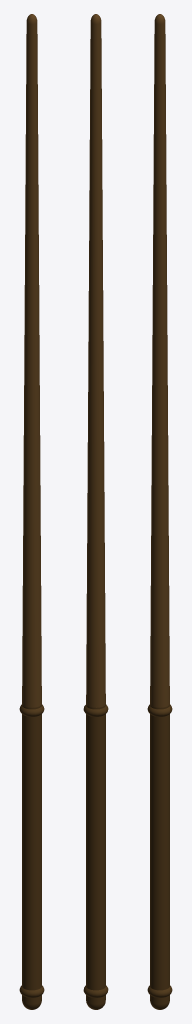
File: basic_wand.glb
3 views of the same model, side by side, from view 1: azimuth 90°, elevation 25°; view 2: azimuth 150°, elevation 25°; view 3: azimuth 270°, elevation 25° (orthographic).
Parts seen in each view (by area): view 1: pCylinder2, pCylinder1, pSphere1, pSphere2; view 2: pCylinder2, pCylinder1, pSphere2, pSphere1; view 3: pCylinder2, pCylinder1, pSphere1, pSphere2.
Part boxes in pixels (x1=…): pCylinder2: x1=22, y1=23, x2=41, y2=707; pCylinder1: x1=22, y1=704, x2=41, y2=1004; pSphere1: x1=19, y1=704, x2=44, y2=716; pSphere2: x1=19, y1=985, x2=44, y2=997; pCylinder2: x1=86, y1=23, x2=105, y2=707; pCylinder1: x1=86, y1=704, x2=105, y2=1004; pSphere2: x1=83, y1=985, x2=108, y2=997; pSphere1: x1=83, y1=704, x2=108, y2=716; pCylinder2: x1=150, y1=23, x2=169, y2=707; pCylinder1: x1=150, y1=704, x2=169, y2=1004; pSphere1: x1=147, y1=704, x2=172, y2=716; pSphere2: x1=147, y1=985, x2=172, y2=997.
Size of the model in its own units: 0.3689 by 16.33 by 0.3689.
